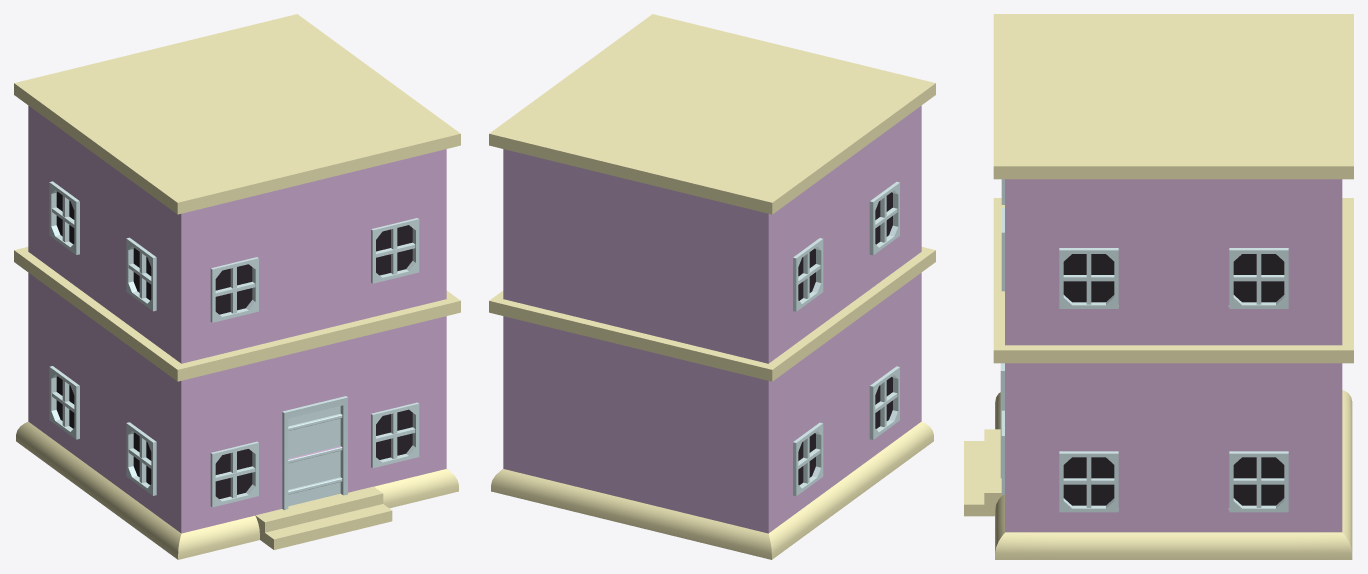
The model's file is house purple 2nd flor.fbx.
The picture shows the model from 3 angles, left to right: view 1: azimuth 30°, elevation 25°; view 2: azimuth 150°, elevation 25°; view 3: azimuth 270°, elevation 25°; orthographic projection. The views are drawn at different scales.
Visible parts, largest first — view 1: Cube; view 2: Cube; view 3: Cube.
Part boxes in pixels (x1,y1,x2,y2): Cube: [14, 14, 460, 559]; Cube: [489, 14, 935, 559]; Cube: [964, 14, 1353, 559].
Bounding box in the file's own units: 9.21 × 11.12 × 9.96.
